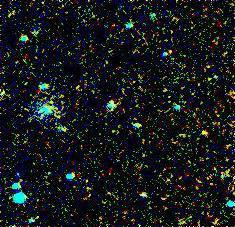star: (189, 121, 219, 151)
